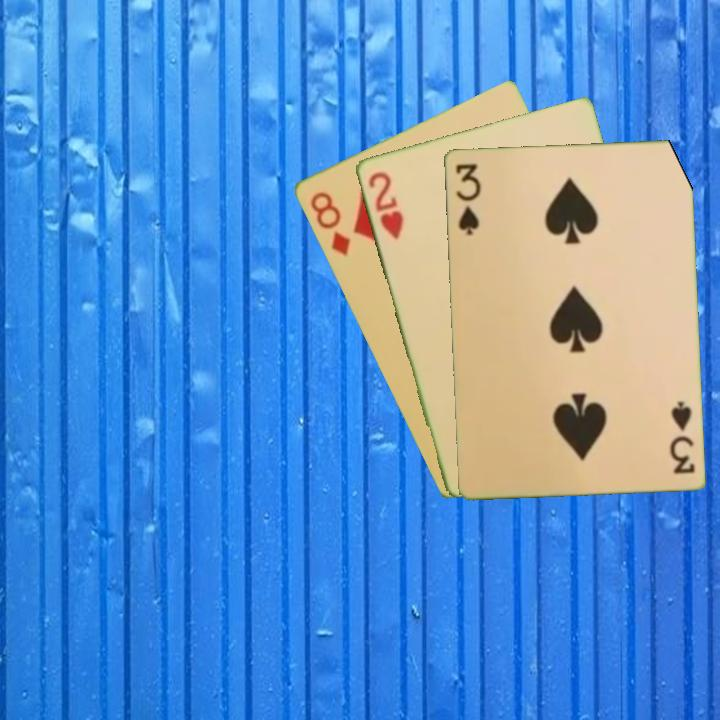2h: (364, 168, 406, 242)
3s: (666, 397, 697, 477), (452, 160, 483, 237)
8d: (306, 188, 353, 259)
